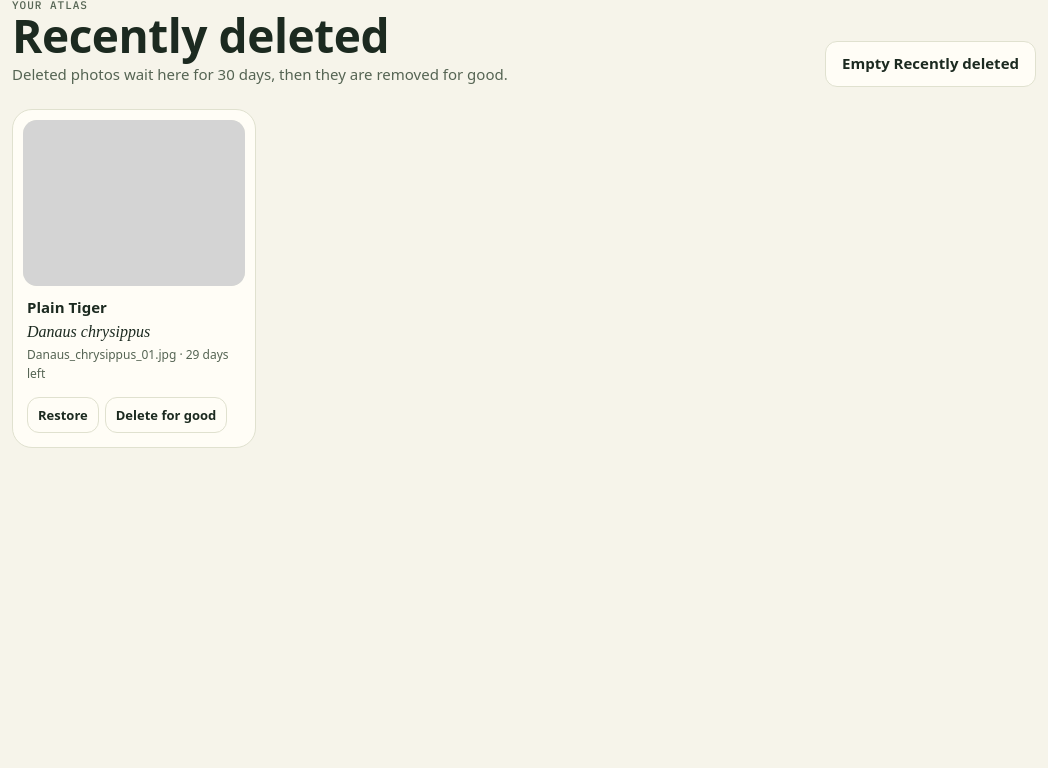
Test: restores a photo to its species
The width and height of the screenshot is (1048, 768).
Click the button with aria-label "Restore Danaus_chrysippus_01.jpg".
click(63, 415)  # box [27,397,99,433]
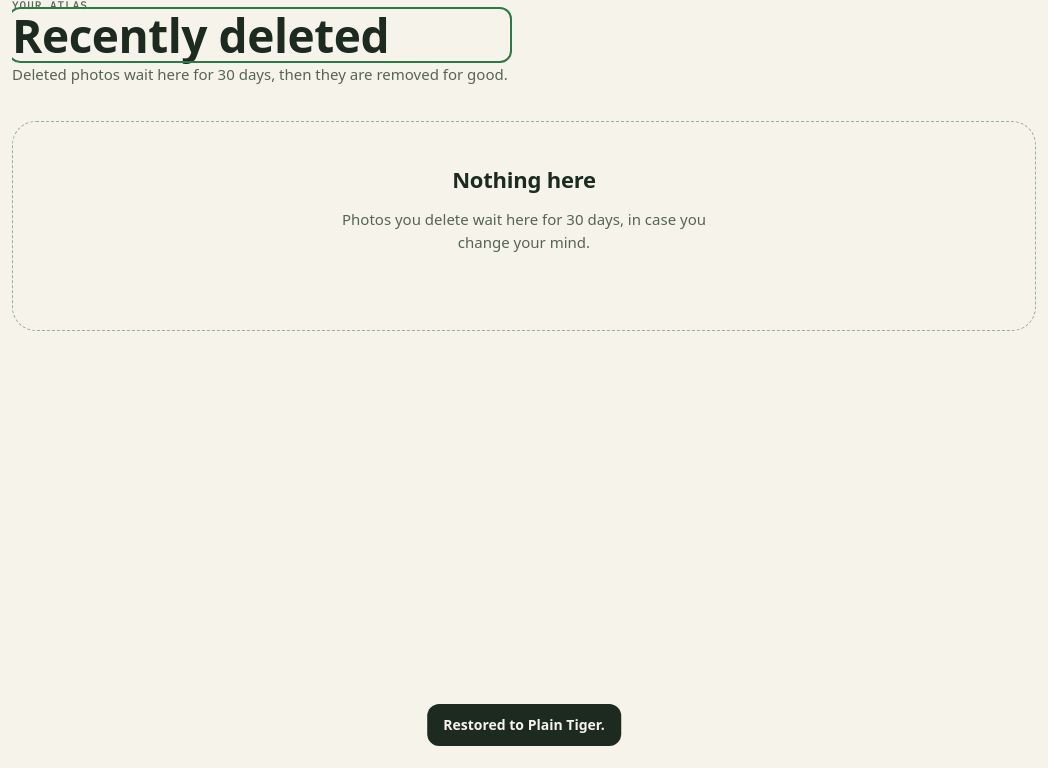
Check: the text "Restored to Plain Tiger." is shown, box [427,704,621,746]
Check: the heading "Nothing here" is shown, box [452,162,596,196]
